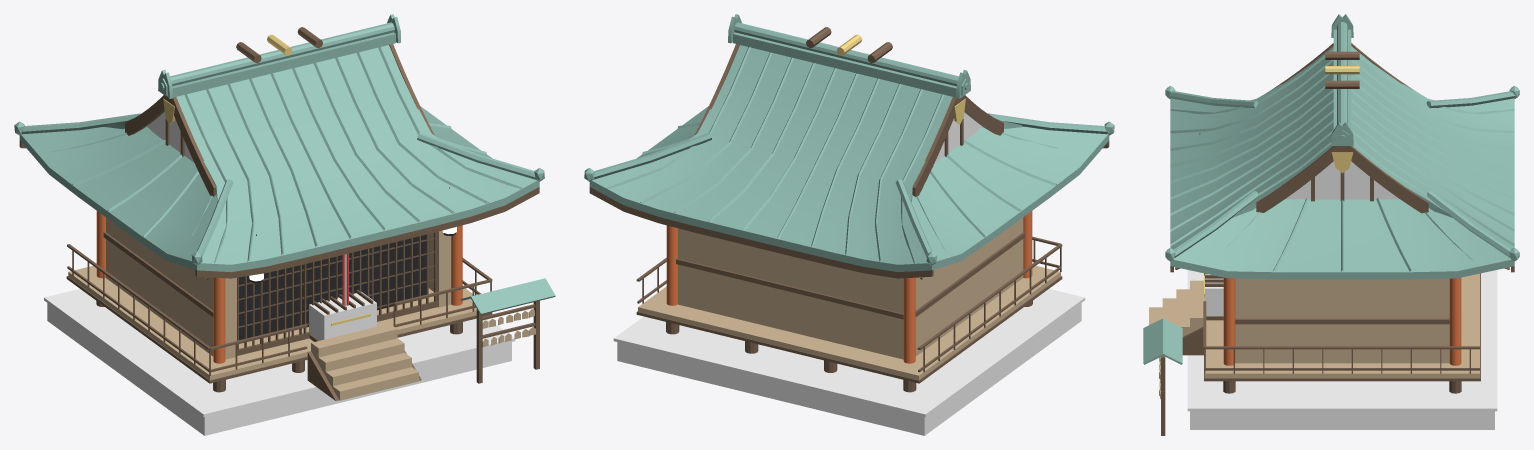
File: shrine_hall.glb
3 views of the same model, side by side, from view 1: azimuth 30°, elevation 25°; view 2: azimuth 150°, elevation 25°; view 3: azimuth 270°, elevation 25° (orthographic). The views are drawn at different scales.
Parts seen in each view (by area): view 1: shrine_hall_body; view 2: shrine_hall_body; view 3: shrine_hall_body.
Part boxes in pixels (x1,y1,x2,y2): shrine_hall_body: (14, 14, 555, 435); shrine_hall_body: (584, 14, 1114, 435); shrine_hall_body: (1143, 14, 1519, 435).
Size of what is drawn, in the model's own units: 8.01 by 6.53 by 7.65.
